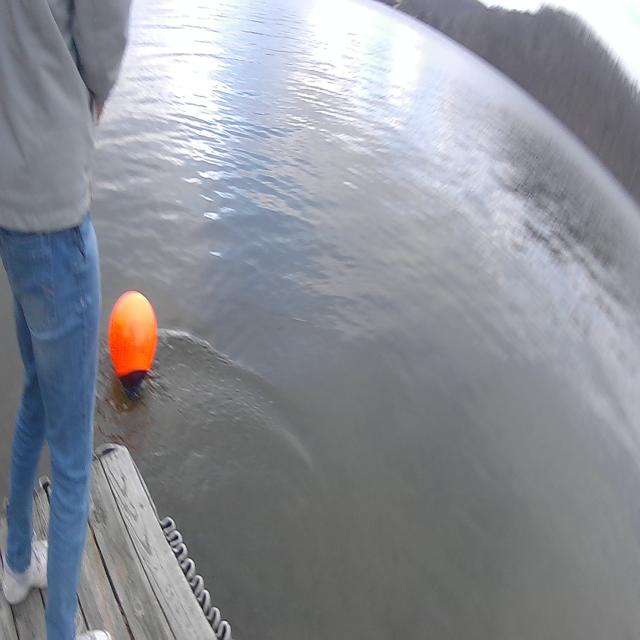Buoy: (106, 288, 161, 399)
